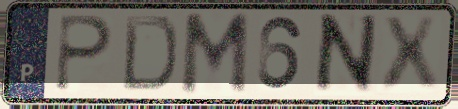6: (256, 14, 304, 96)
D: (119, 13, 180, 95)
M: (178, 10, 253, 99)
N: (310, 11, 381, 99)
P: (52, 13, 116, 95)
X: (378, 14, 441, 97)
